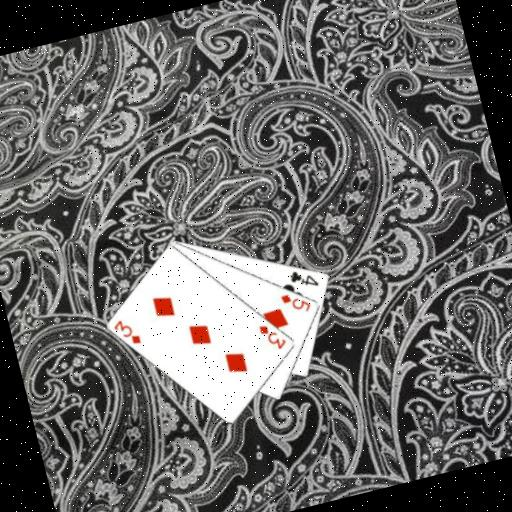3D: (256, 317, 290, 355), (110, 313, 144, 351)
4C: (286, 264, 321, 294)
5D: (277, 286, 314, 319)
